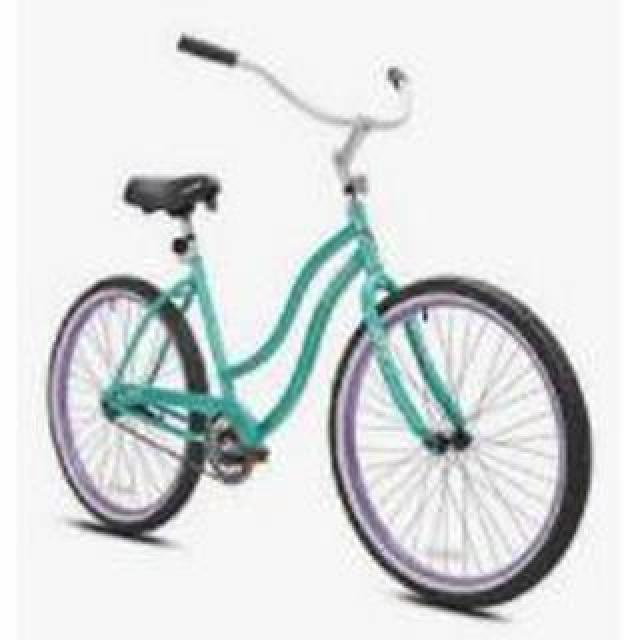Person: (44, 34, 592, 610)
